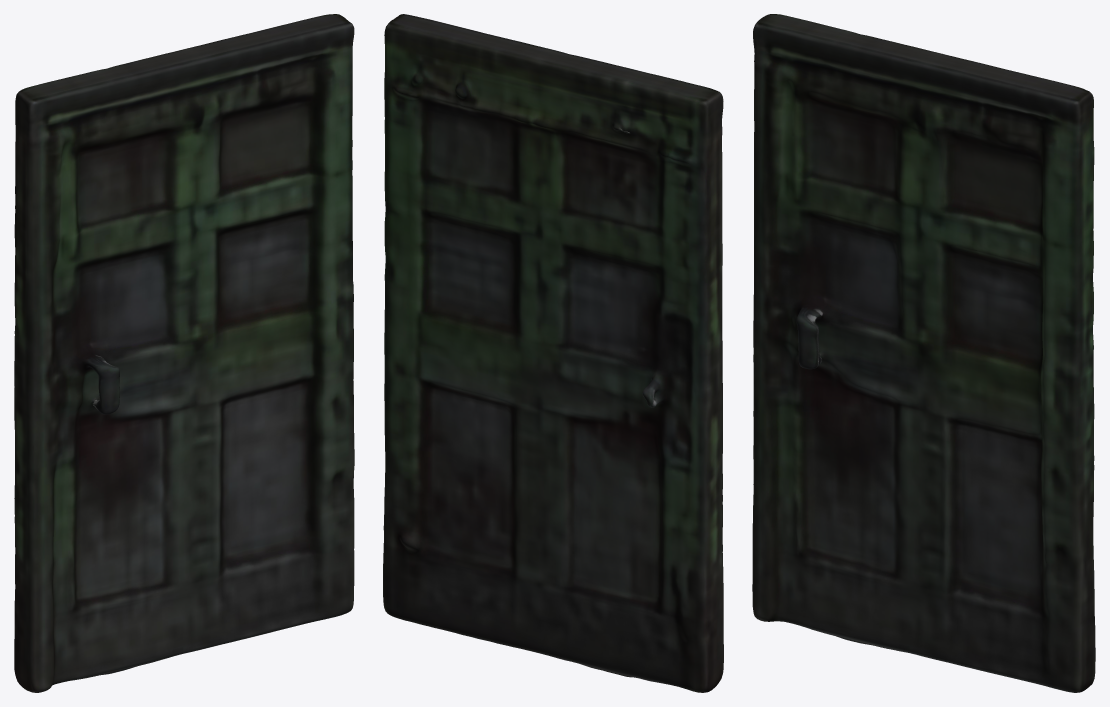
File: door for house.glb
The picture shows the model from 3 angles, left to right: view 1: azimuth 30°, elevation 25°; view 2: azimuth 150°, elevation 25°; view 3: azimuth 330°, elevation 25°; orthographic projection.
Parts seen in each view (by area): view 1: world; view 2: world; view 3: world.
Boxes of the visible parts, bbox=[...] form: world: bbox=[14, 14, 354, 692]; world: bbox=[383, 14, 723, 692]; world: bbox=[752, 14, 1095, 692].
Bounding box in the file's own units: 0.3023 × 0.5299 × 0.0692.
Materials: 1 (1 with a texture image).
